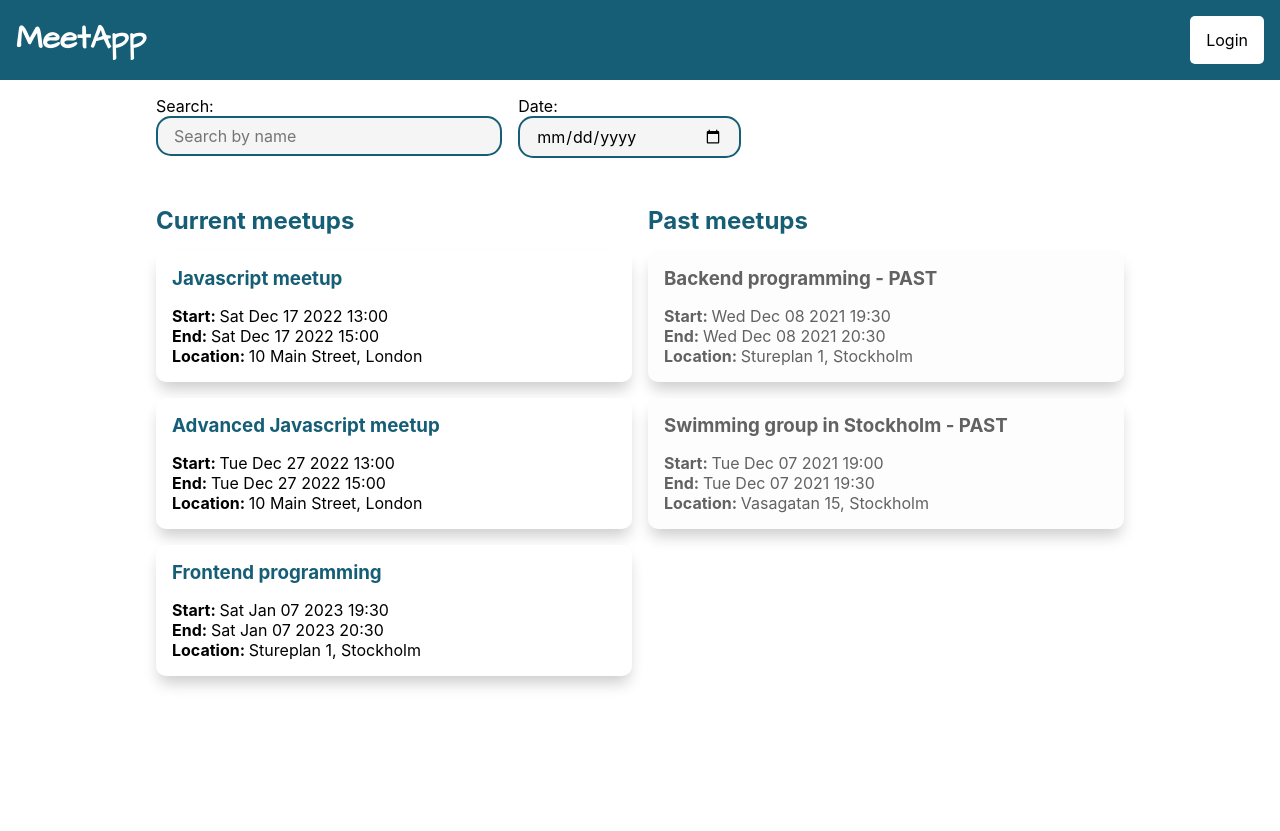
Test: App integration tests - registering for events › renders an attend button on meetup detail page when user is logged in if event is not full
Click the button "Login": (1227, 40) [1190,16,1264,64]
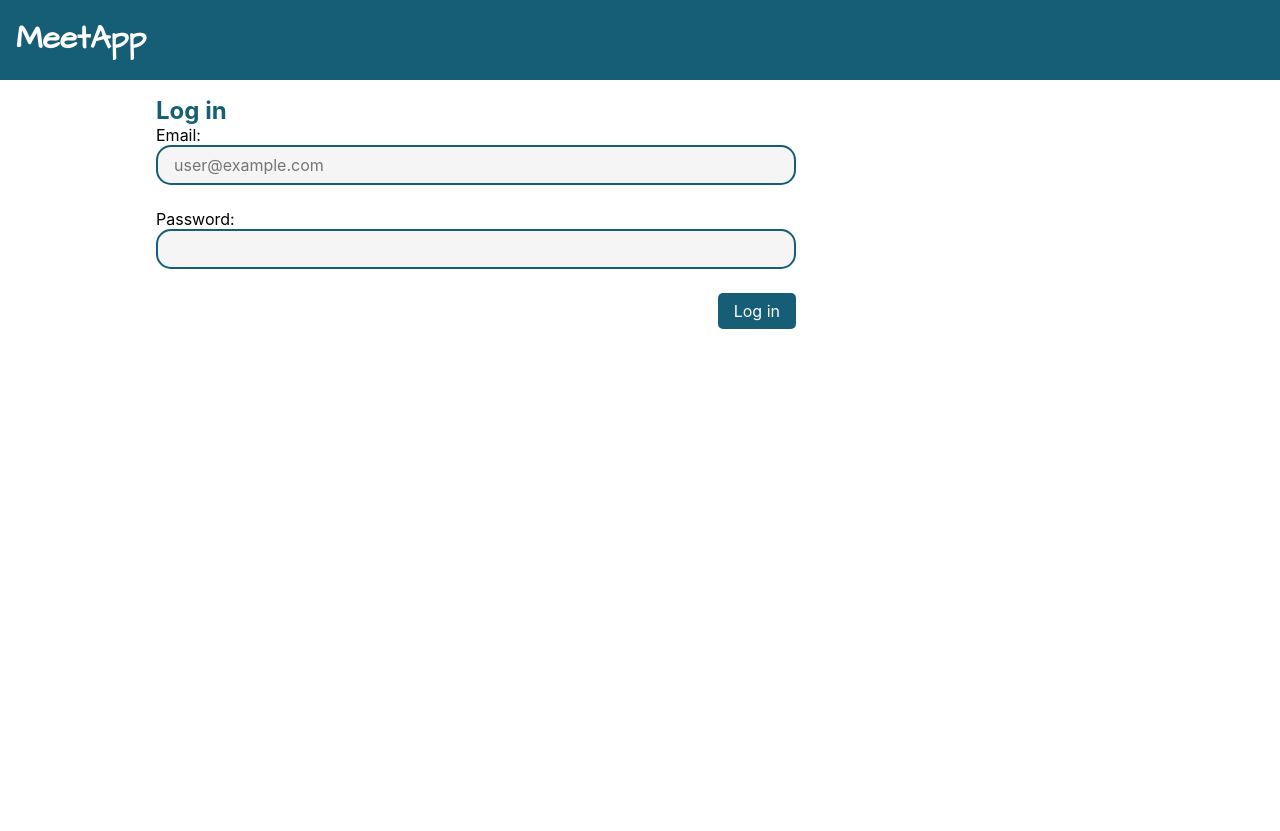
In the field labelled "Email:": (476, 165) [156,145,796,185], type "hannah@gmail.com"
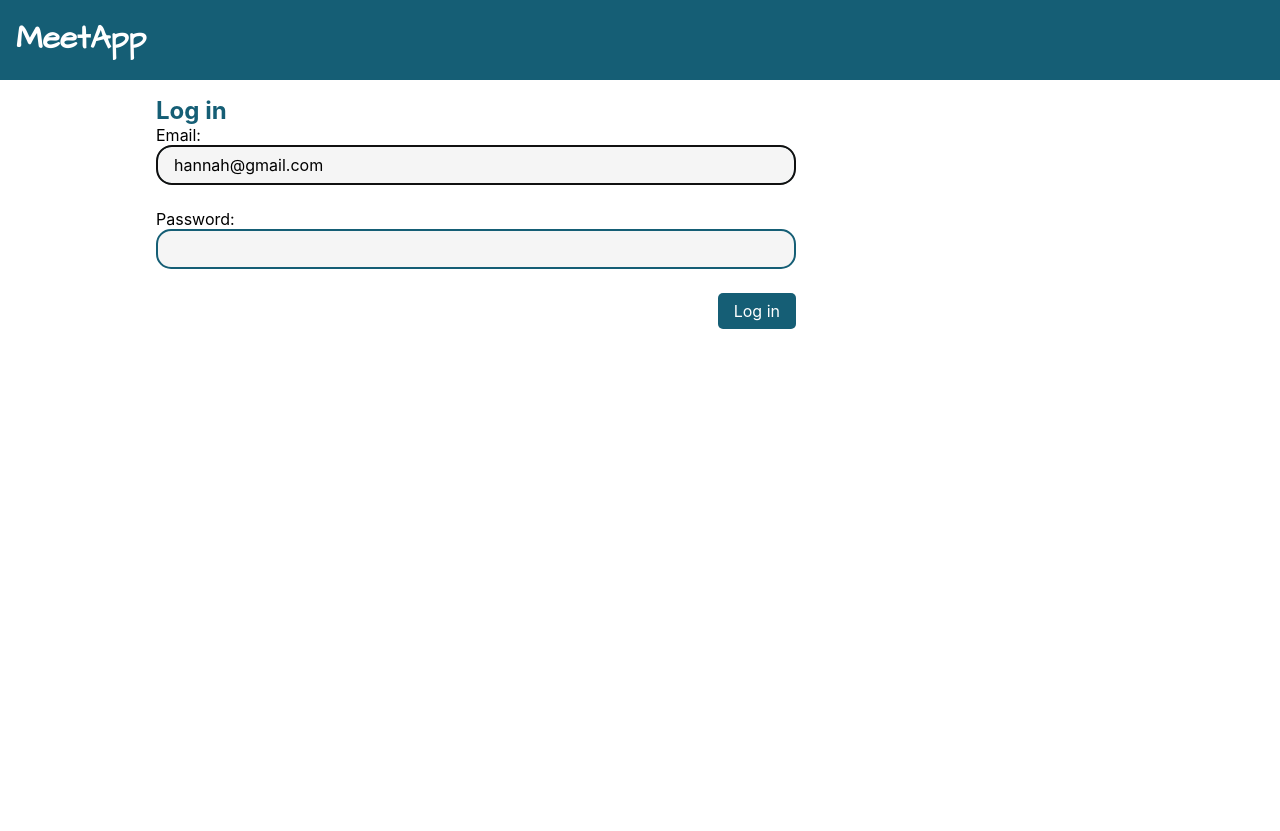
In the password field labelled "Password:": (476, 249) [156,229,796,269], type "hannahIsBest"
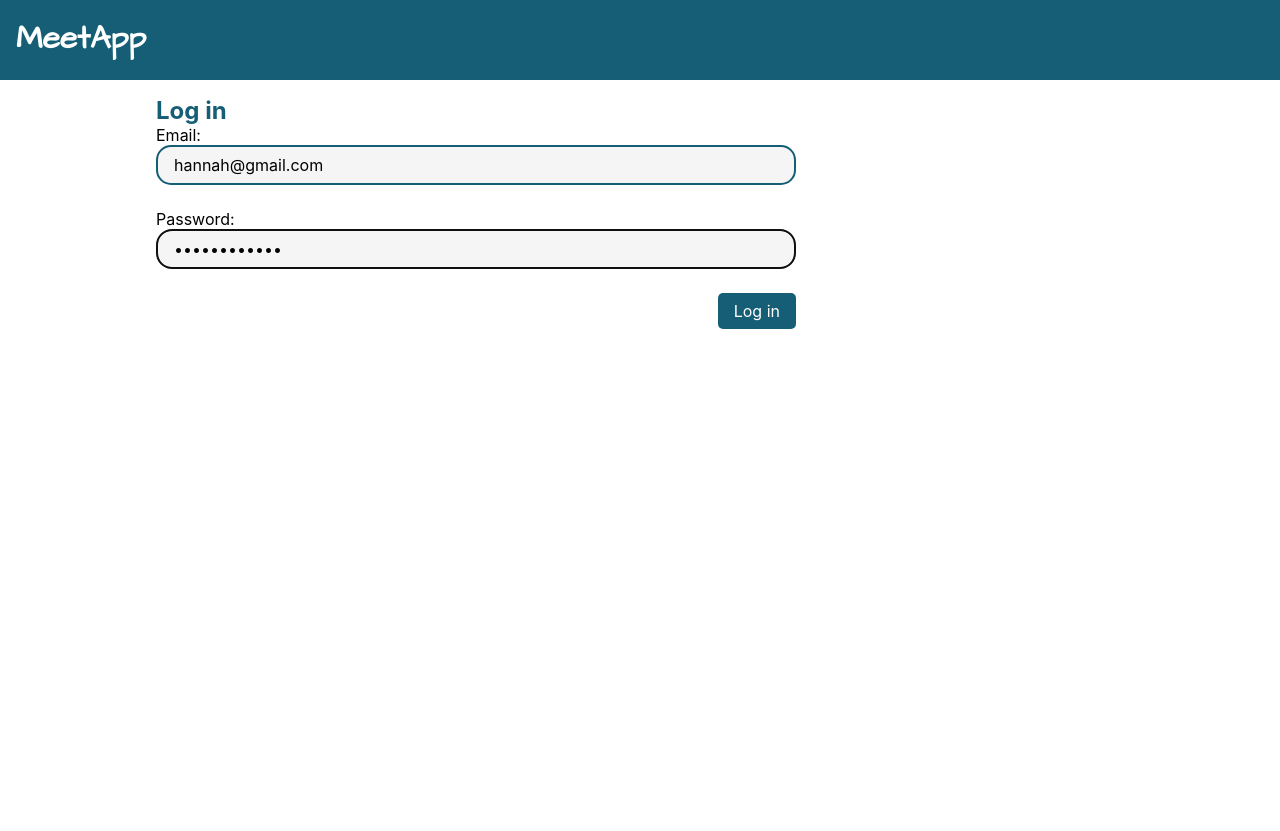
Click the button with test id "login-btn": (757, 311) [718,293,796,329]
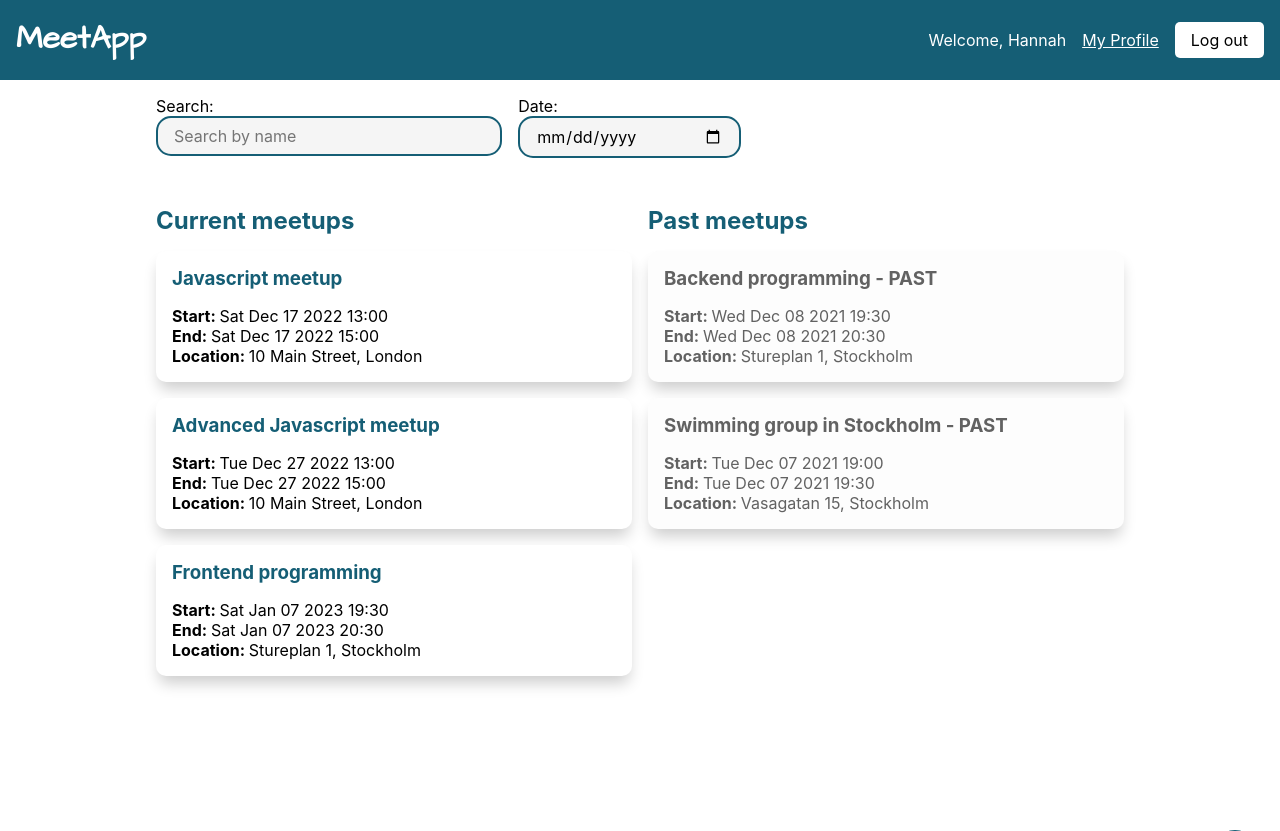
Click the link with test id "currentListItem": (394, 316) [156,251,632,382]
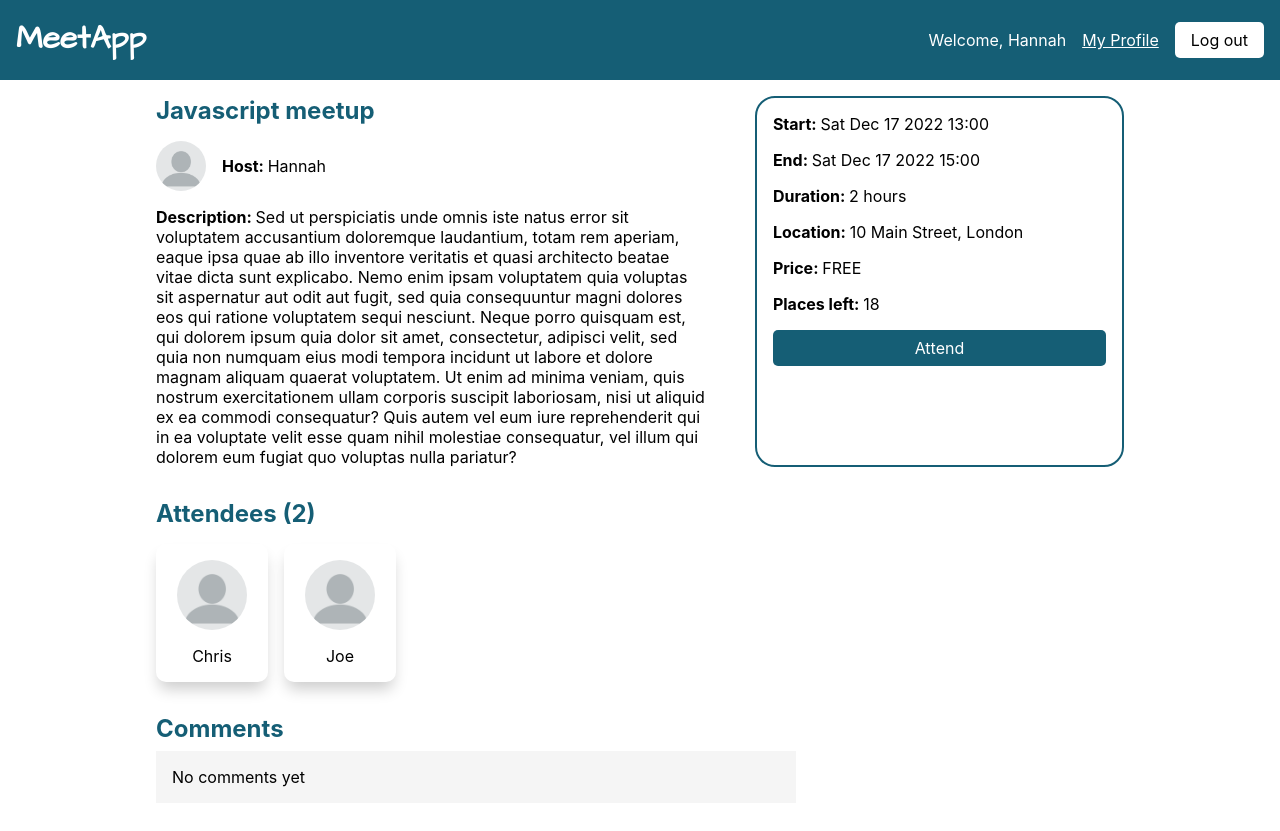
expect the button "Attend" is shown: met, box [773,330,1106,366]
